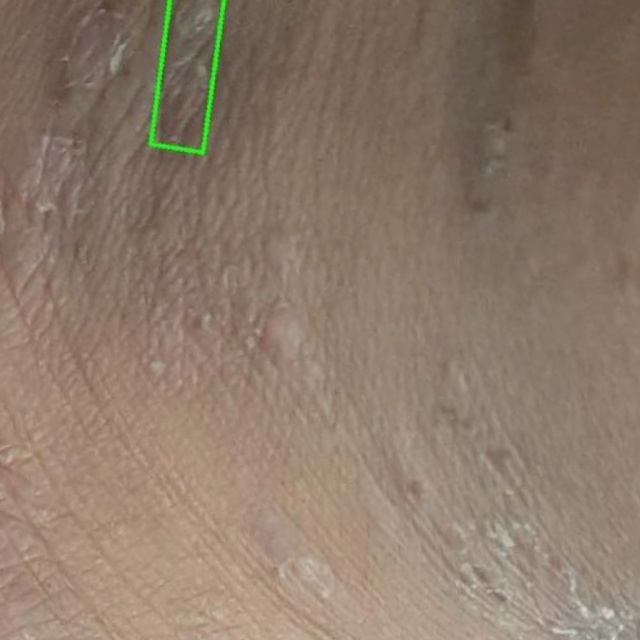Eczema: (150, 0, 224, 151)
